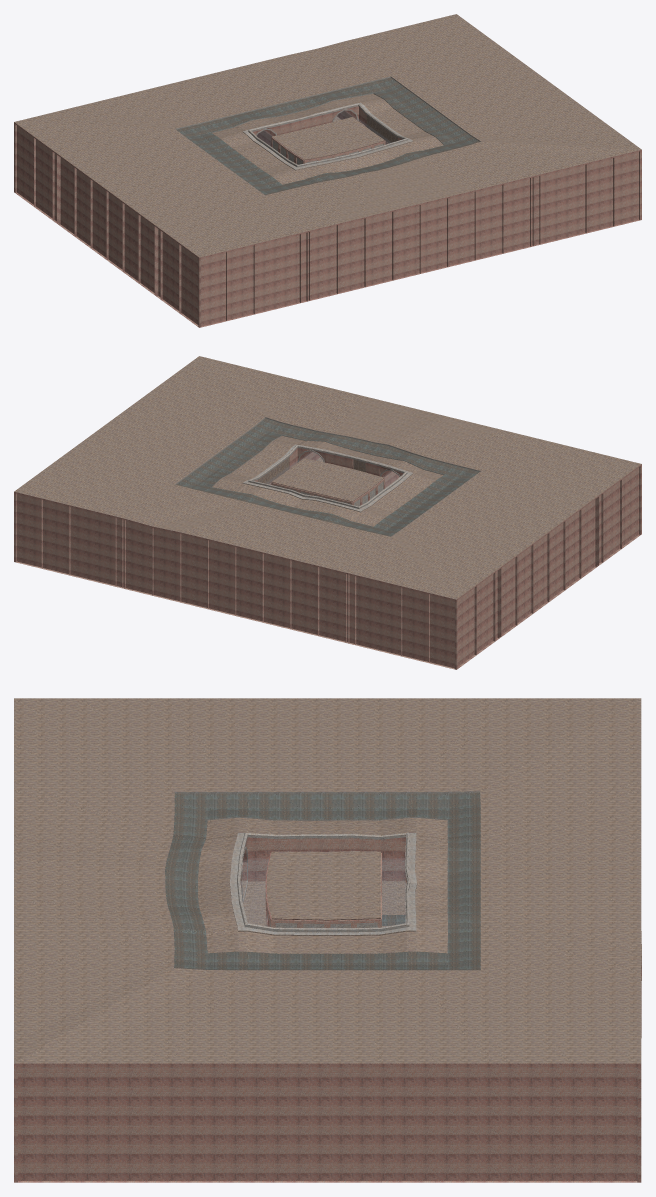
The model's file is town.fbx.
3 views of the same model, one above another, from view 1: azimuth 30°, elevation 25°; view 2: azimuth 150°, elevation 25°; view 3: azimuth 270°, elevation 25° (orthographic). The views are drawn at different scales.
Parts seen in each view (by area): view 1: Plane; view 2: Plane; view 3: Plane, Plane.001.
Boxes of the visible parts, <box> form: Plane: <box>14,14,641,327</box>; Plane: <box>14,356,641,669</box>; Plane: <box>14,698,641,1182</box>; Plane.001: <box>241,859,405,926</box>.
Size of the model in its own units: 8182 by 1277 by 5942.
Materials: 5 (5 with a texture image).
